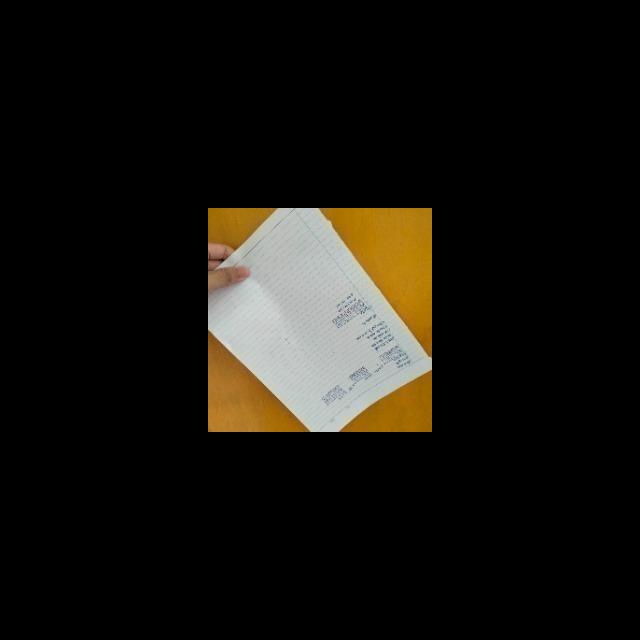paper: (208, 208, 431, 431)
